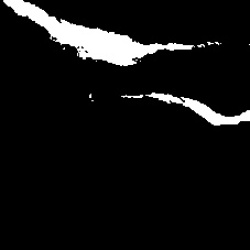crack: (1, 2, 218, 66), (123, 94, 248, 127), (149, 93, 248, 126), (124, 94, 142, 99), (87, 93, 93, 100), (88, 92, 92, 101)
